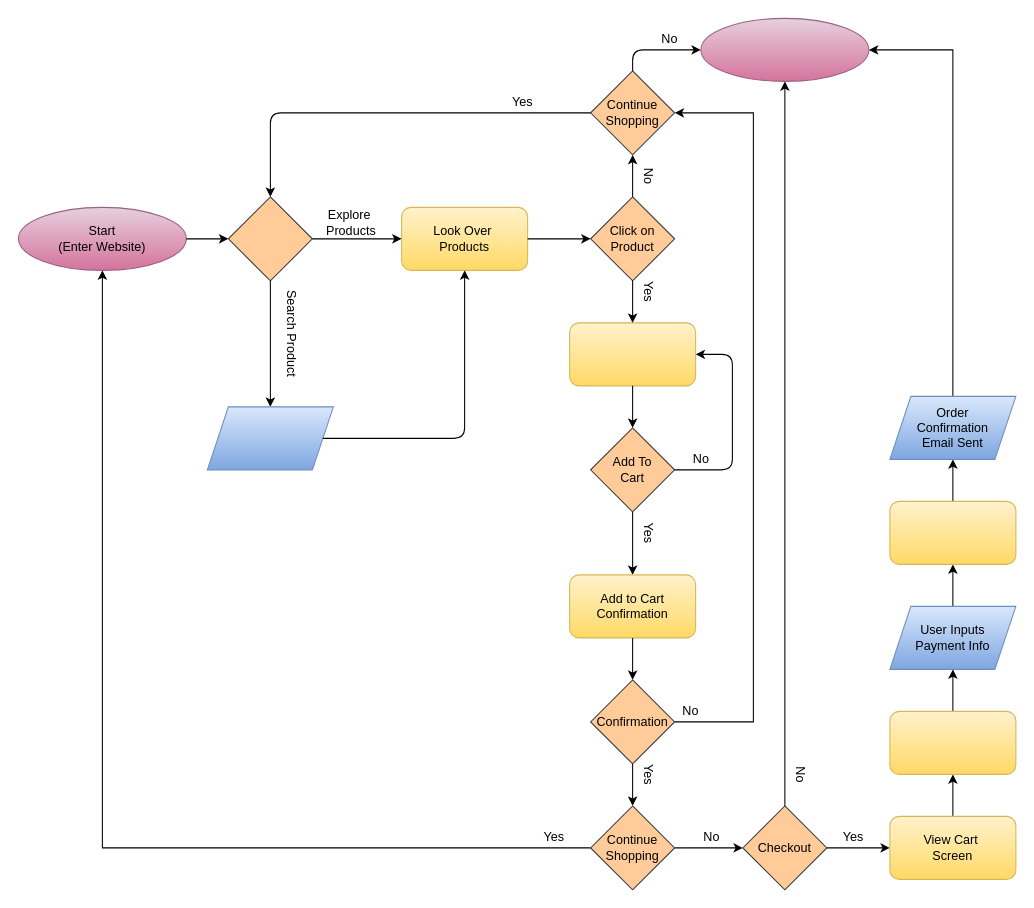
Some shapes in this 1034 by 908 pixel diagram are drawn without their labels. Here are the shapes that lost their labels. From the top down, the centre of each, then its label:
the point at 784,49: End (Leave Website)
the point at 269,238: Decision
the point at 632,354: Product Webpage
the point at 269,438: User Inputs Search
the point at 952,532: Order Confirmation
the point at 952,742: View Payement Screen
